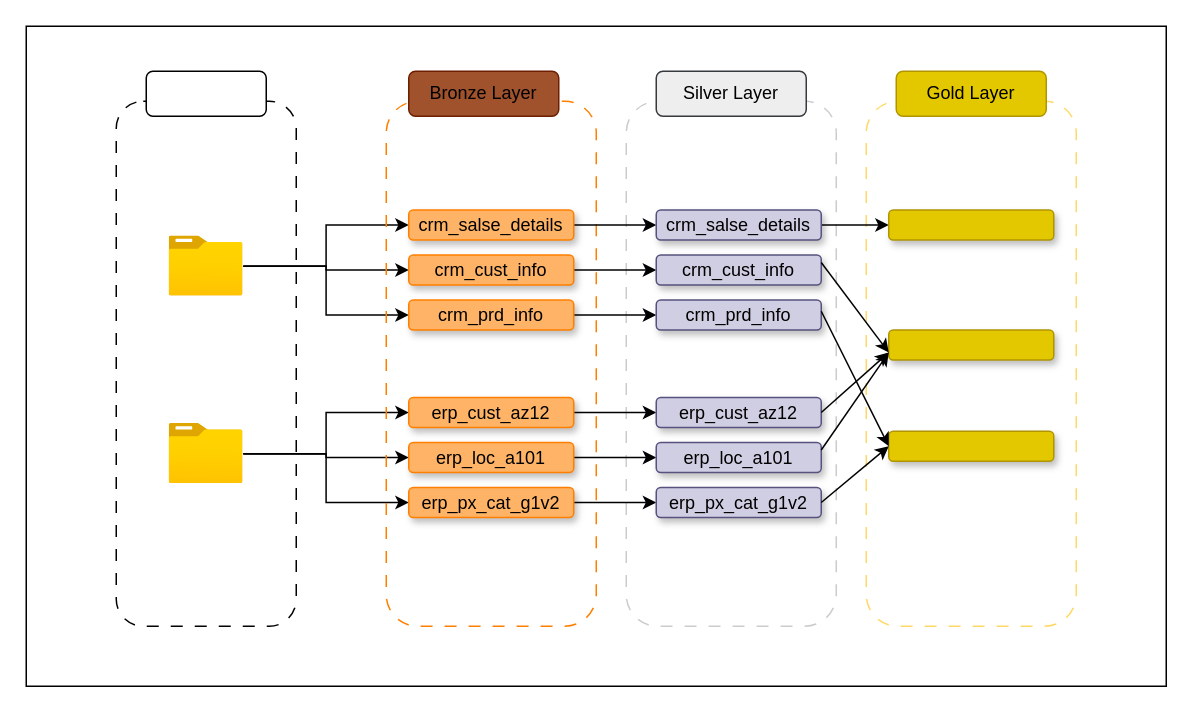
The diagram is 1193 pixels wide and 713 high, and some of its shapes have lost their labels. Each missing label, with the centre of its shape:
CRM: the point at 206,266
dim_customers: the point at 972,346
dime_products: the point at 972,448
ERP: the point at 206,453
fact_salses: the point at 972,226
Sources: the point at 205,93
